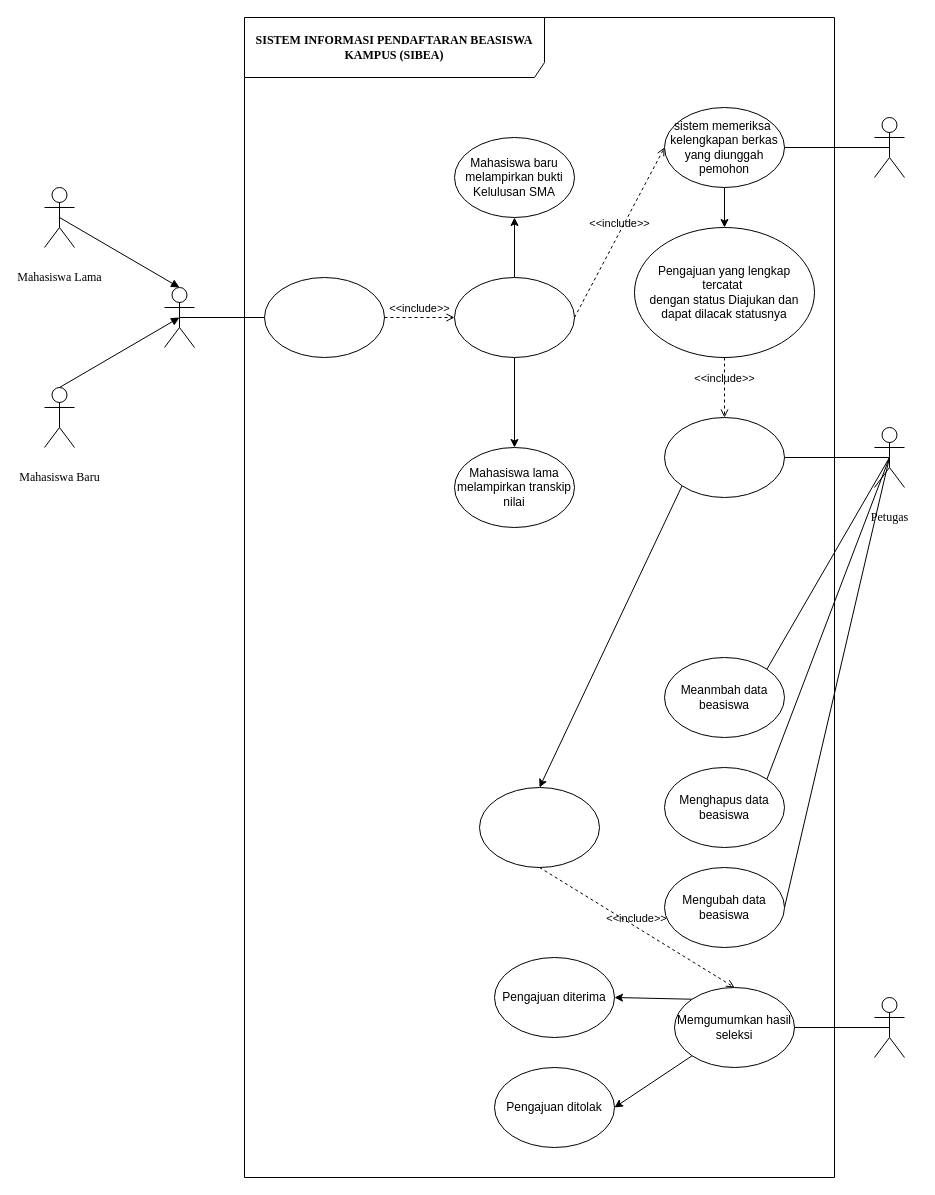
Image size: 935x1195. Some labels were removed from this diagram. The box of each missing label's shape, as (x1, y1, x2, y2) in pixels:
Berkas pengajuan berhasil di verifikasi: (478, 786, 600, 868)
Pemohon: (164, 286, 194, 348)
Pemohon melampirkan bukti prestasi: (454, 276, 574, 358)
Pemohon memilih Beasiswa Prestasi: (264, 276, 384, 358)
Petugas Kemahasiswaan memverifikasi berkas pengajuan: (664, 416, 784, 498)
Sistem: (874, 116, 904, 178)
Tim Seleksi: (874, 996, 904, 1058)
